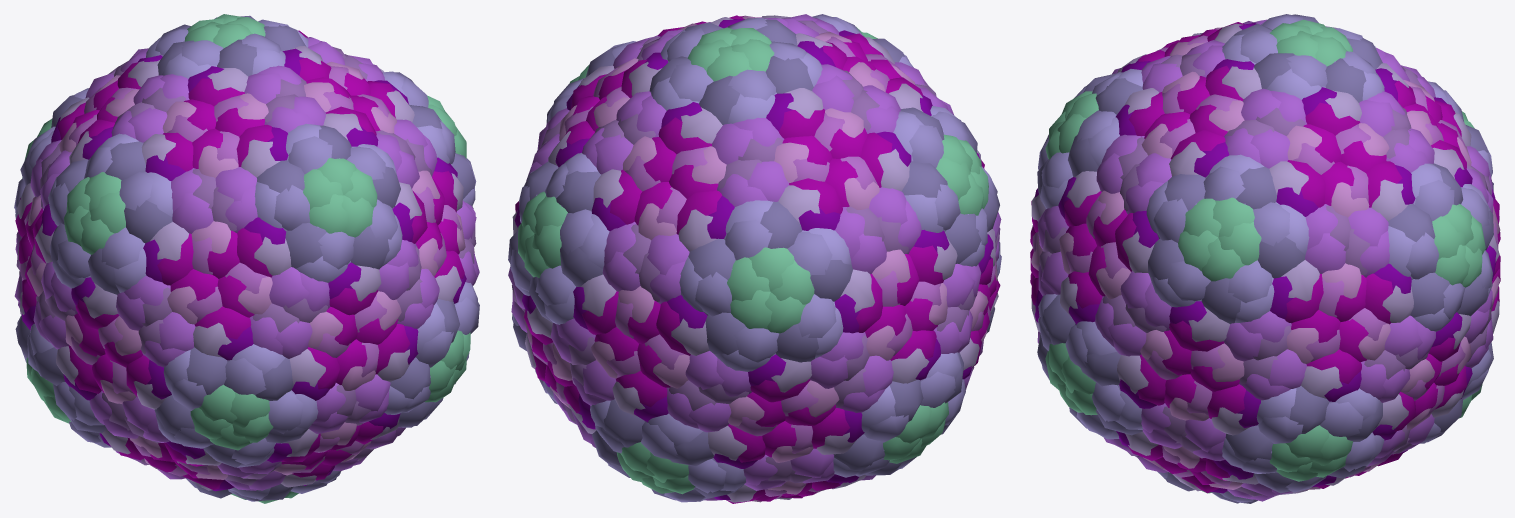
Rendered from adenovirus_160_outer_cleaned_draco.glb.
3 renders of one model, left to right at view 1: azimuth 30°, elevation 25°; view 2: azimuth 150°, elevation 25°; view 3: azimuth 270°, elevation 25°, orthographic. The views are drawn at different scales.
Visible parts, largest first — view 1: adenovirus; view 2: adenovirus; view 3: adenovirus.
Boxes of the visible parts, box(x1,y1,x2,y2) form: adenovirus: box(14, 14, 479, 503); adenovirus: box(508, 14, 1001, 503); adenovirus: box(1030, 14, 1500, 503).
Size of the model in its own units: 956 by 1015 by 933.
